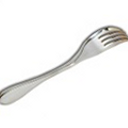Fork: (1, 25, 128, 108)
